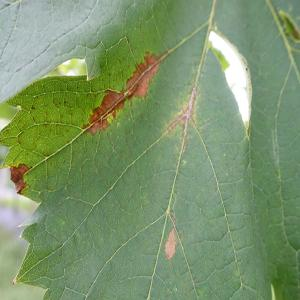Folha: (1, 0, 299, 299)
Fungo: (82, 50, 160, 136), (166, 83, 196, 153), (82, 89, 125, 136), (126, 50, 160, 100), (9, 162, 32, 194), (164, 226, 180, 260), (88, 117, 110, 136), (168, 208, 180, 238), (168, 209, 176, 225), (12, 279, 16, 285)
